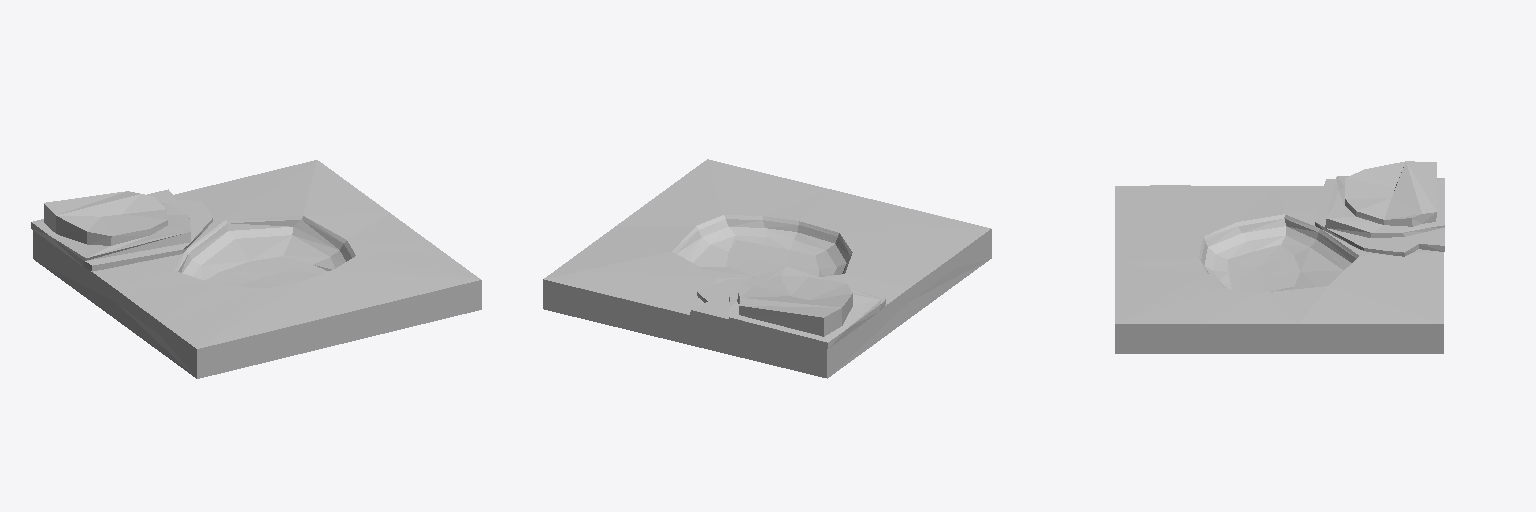
The model's file is Plattegrond.obj.
3 renders of one model, left to right at view 1: azimuth 30°, elevation 25°; view 2: azimuth 150°, elevation 25°; view 3: azimuth 270°, elevation 25°, orthographic.
Parts seen in each view (by area): view 1: Hill_1; view 2: Hill_1; view 3: Hill_1.
Boxes of the visible parts, x1=… form: Hill_1: x1=31, y1=160, x2=481, y2=378; Hill_1: x1=543, y1=159, x2=991, y2=378; Hill_1: x1=1115, y1=161, x2=1444, y2=353.
Size of the model in its own units: 0.9984 by 0.1894 by 0.996.